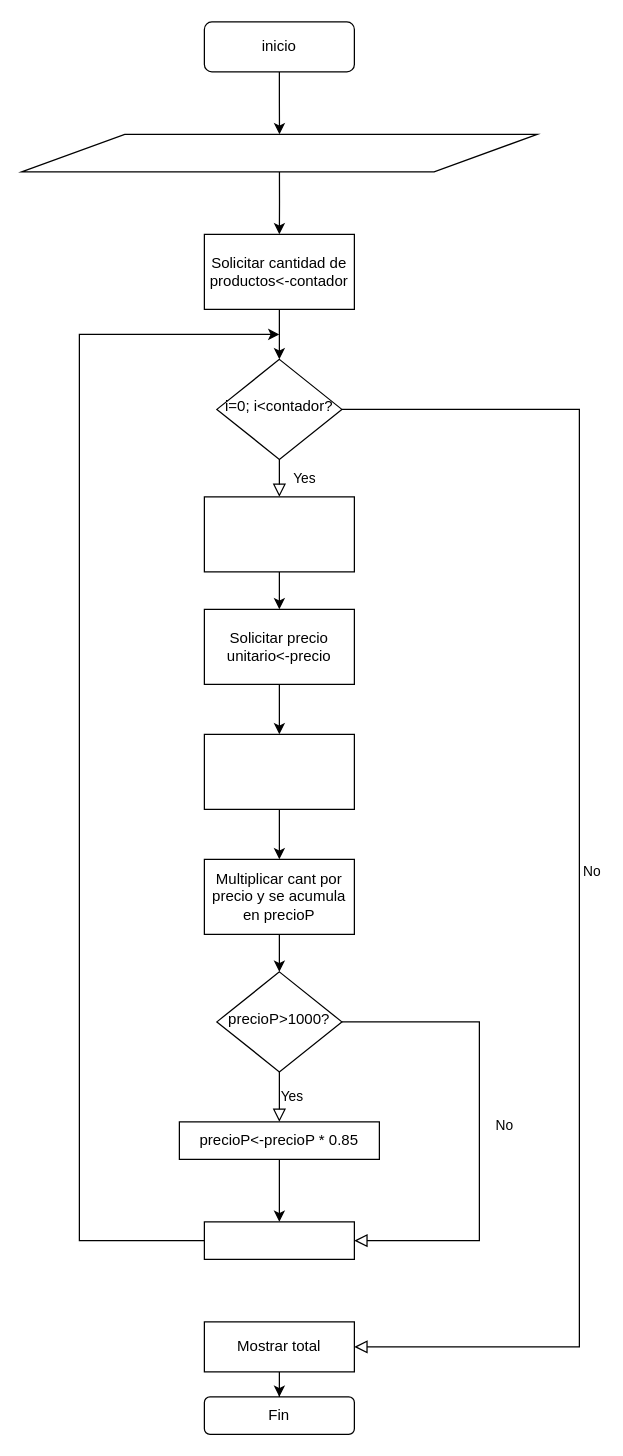
Image size: 623x1456. Some labels were removed from this diagram. Each missing label, with the centre of its shape:
"int contador, producto, precio, total, cant, precioP" belongs at (x=278, y=152).
"Solicitar cantidad<-cant" belongs at (x=278, y=771).
"Solicitar nombre del producto<-producto" belongs at (x=278, y=534).
"total acumula precioP i++" belongs at (x=278, y=1240).
